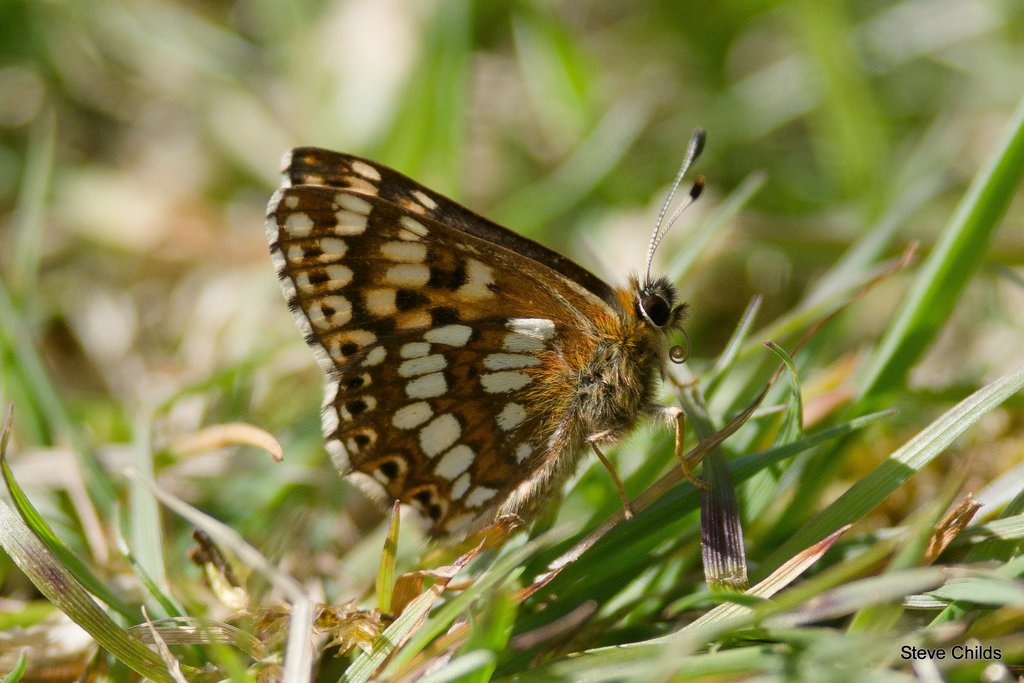Butterfly: (244, 120, 763, 588)
